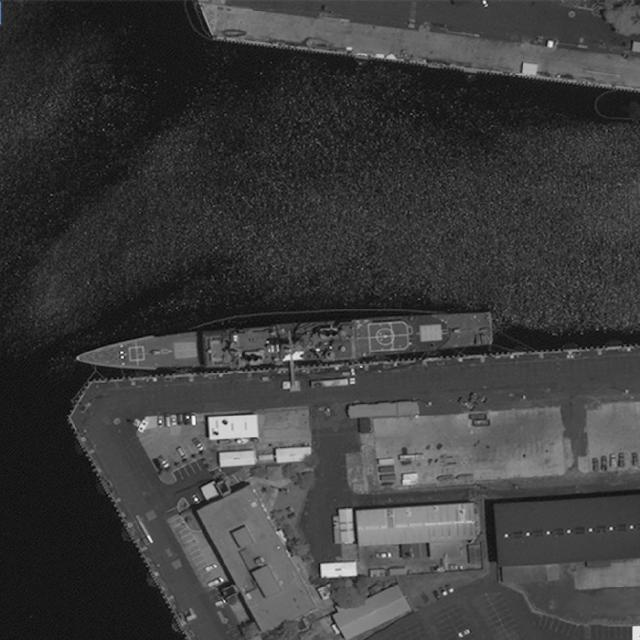Cruiser: (74, 310, 493, 375)
